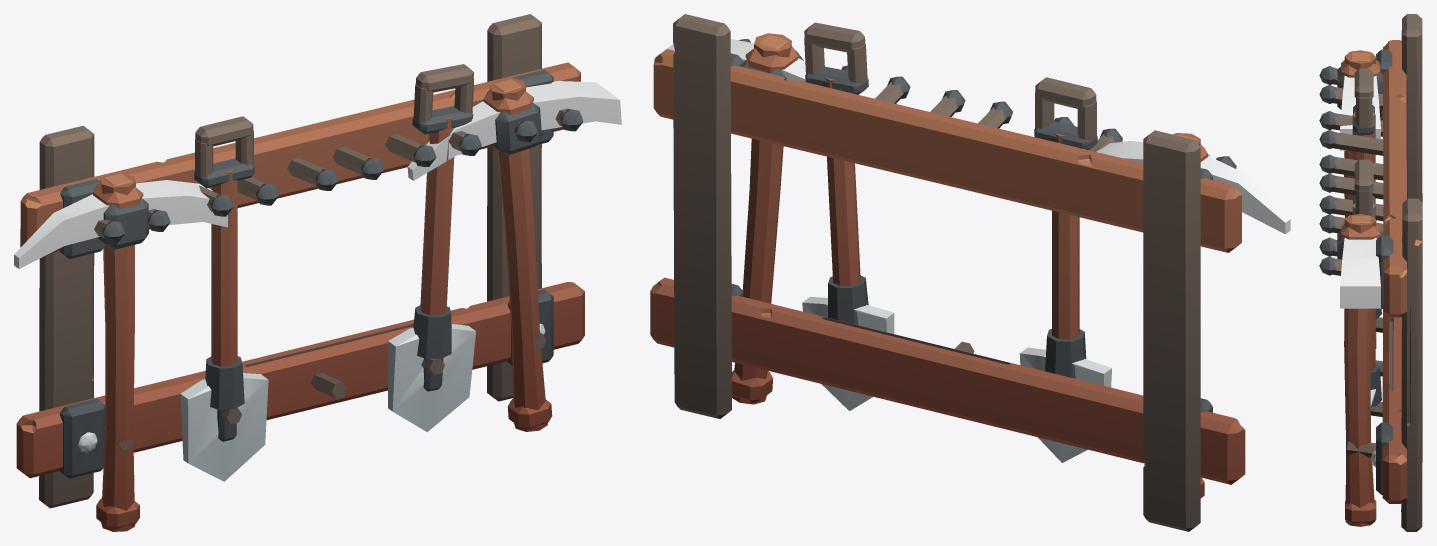
File: tool_rack.glb
3 renders of one model, left to right at view 1: azimuth 30°, elevation 25°; view 2: azimuth 150°, elevation 25°; view 3: azimuth 270°, elevation 25°, orthographic. The views are drawn at different scales.
Visible parts, largest first — view 1: tool_rack; view 2: tool_rack; view 3: tool_rack.
Boxes of the visible parts, x1,y1,x2,y2 form: tool_rack: (14, 14, 621, 531); tool_rack: (650, 14, 1290, 531); tool_rack: (1319, 14, 1422, 531).
Bounding box in the file's own units: 2.71 × 1.66 × 0.48.
Materials: 1 (1 with a texture image).
